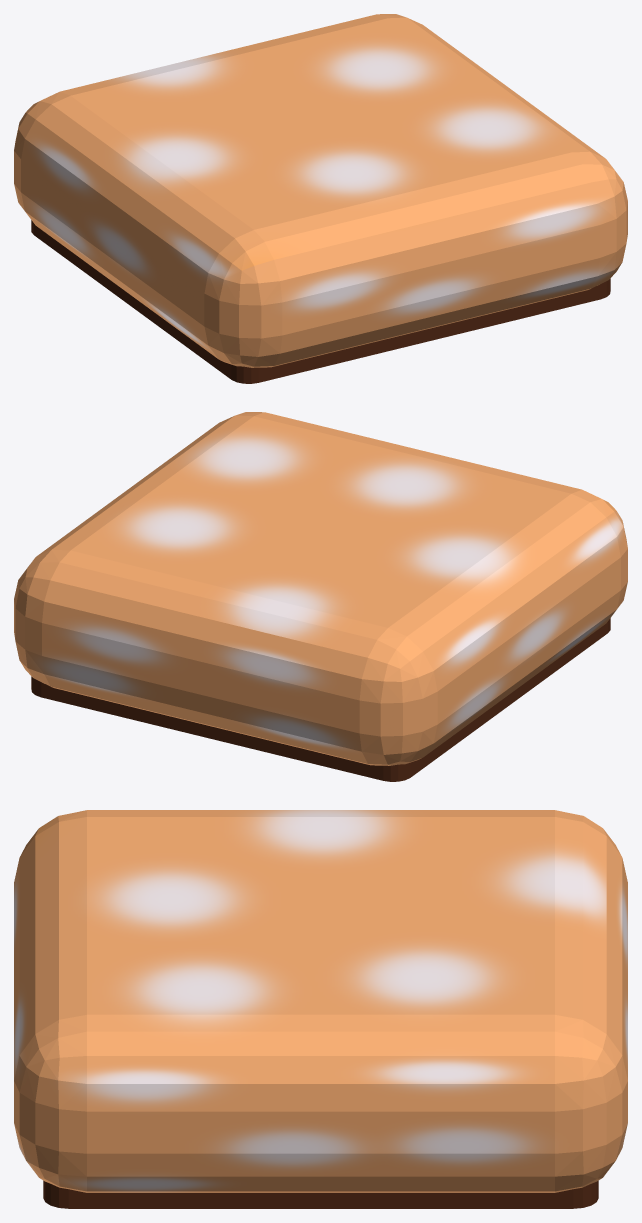
Rendered from JumpingKinoko(Base_2Color).obj.
The picture shows the model from 3 angles, top to bottom: view 1: azimuth 30°, elevation 25°; view 2: azimuth 150°, elevation 25°; view 3: azimuth 270°, elevation 25°; orthographic projection. The views are drawn at different scales.
Parts seen in each view (by area): view 1: 立方体, 立方体.001; view 2: 立方体, 立方体.001; view 3: 立方体, 立方体.001.
Part boxes in pixels (left/top/right/bottom): 立方体: left=14, top=14, right=627, bottom=367; 立方体.001: left=31, top=220, right=610, bottom=383; 立方体: left=14, top=412, right=627, bottom=765; 立方体.001: left=31, top=618, right=610, bottom=781; 立方体: left=14, top=810, right=627, bottom=1192; 立方体.001: left=43, top=1180, right=598, bottom=1208.
Bounding box in the file's own units: 34.08 × 10.76 × 34.08.
2 materials, 1 textured.
